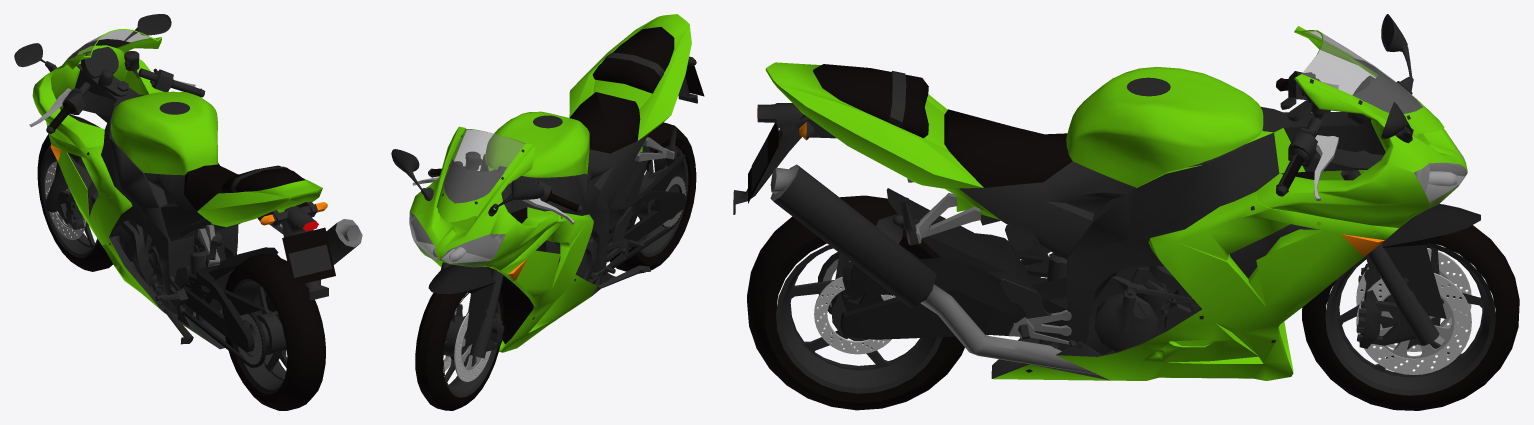
The model's file is Bike2.FBX.
3 views of the same model, side by side, from view 1: azimuth 30°, elevation 25°; view 2: azimuth 150°, elevation 25°; view 3: azimuth 270°, elevation 25° (orthographic). The views are drawn at different scales.
Visible parts, largest first — view 1: Mesh11, Mesh10, Mesh3, Mesh8, Mesh7, Mesh6, Mesh9, Mesh4, Mesh1; view 2: Mesh11, Mesh10, Mesh6, Mesh8, Mesh3, Mesh9, Mesh7, Mesh4, Mesh1; view 3: Mesh11, Mesh10, Mesh3, Mesh6, Mesh8, Mesh9, Mesh7, Mesh5, Mesh2, Mesh4.
Part boxes in pixels (left/top/right/bottom): Mesh11: left=14, top=14, right=362, bottom=338; Mesh10: left=67, top=64, right=262, bottom=349; Mesh3: left=222, top=254, right=325, bottom=410; Mesh8: left=177, top=246, right=280, bottom=367; Mesh7: left=29, top=51, right=205, bottom=134; Mesh6: left=37, top=134, right=113, bottom=271; Mesh9: left=44, top=114, right=100, bottom=229; Mesh4: left=45, top=161, right=85, bottom=239; Mesh1: left=238, top=313, right=262, bottom=365; Mesh11: left=391, top=14, right=704, bottom=352; Mesh10: left=480, top=133, right=650, bottom=295; Mesh6: left=415, top=291, right=503, bottom=410; Mesh8: left=602, top=145, right=685, bottom=276; Mesh3: left=609, top=122, right=696, bottom=273; Mesh9: left=428, top=262, right=504, bottom=358; Mesh7: left=412, top=151, right=582, bottom=224; Mesh4: left=454, top=312, right=490, bottom=381; Mesh1: left=661, top=175, right=686, bottom=227; Mesh11: left=733, top=14, right=1467, bottom=380; Mesh10: left=959, top=107, right=1385, bottom=380; Mesh3: left=747, top=195, right=964, bottom=410; Mesh6: left=1302, top=225, right=1519, bottom=410; Mesh8: left=818, top=188, right=1067, bottom=339; Mesh9: left=1341, top=170, right=1480, bottom=348; Mesh7: left=1276, top=71, right=1383, bottom=200; Mesh5: left=1356, top=273, right=1471, bottom=374; Mesh2: left=814, top=276, right=895, bottom=354; Mesh4: left=1356, top=248, right=1471, bottom=351.
Bounding box in the file's own units: 18.09 × 26.86 × 51.76.
